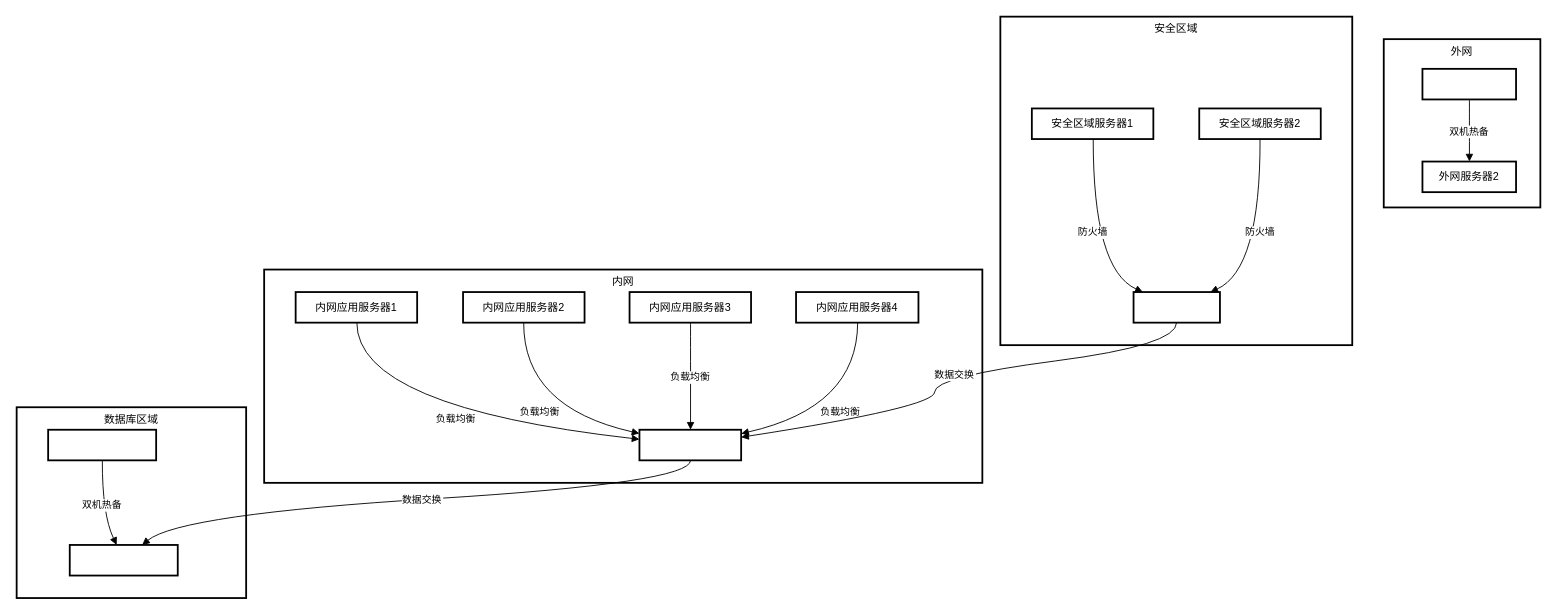
The diagram is 1556 pixels wide and 614 high, and some of its shapes have lost their labels. Each missing label, with the centre of its shape:
"外网服务器1" belongs at (1468,84).
"数据库服务器1" belongs at (102,444).
"数据库服务器2" belongs at (123,560).
"负载均衡设备" belongs at (690,444).
"防火墙设备" belongs at (1176,307).
